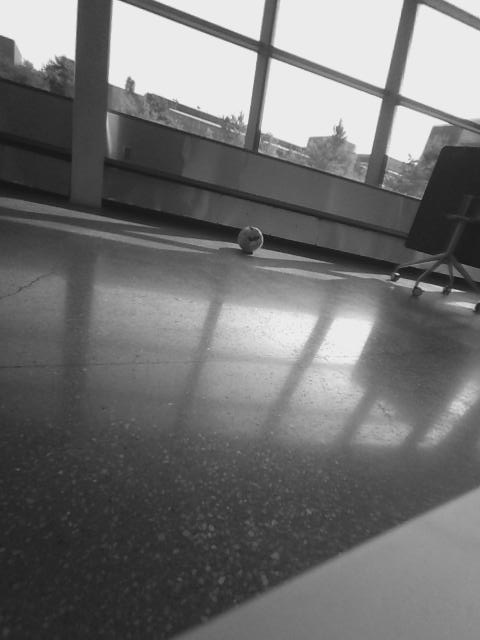ball: (236, 225, 266, 254)
